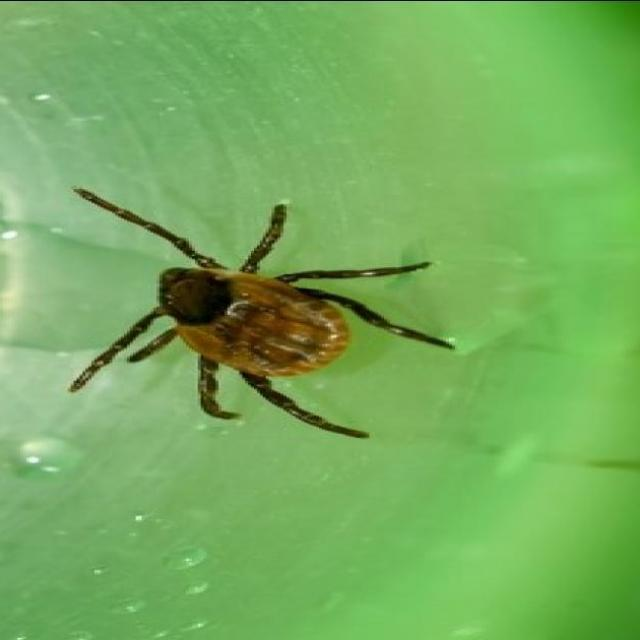Rhipicephalus Sanguineus-F: (71, 187, 452, 435)
